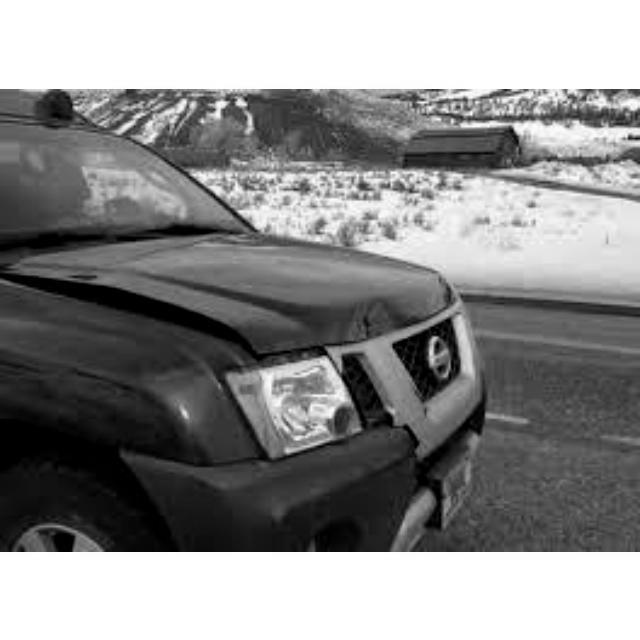bonnet-dent: (58, 220, 426, 353)
front-bumper-dent: (268, 392, 449, 525)
